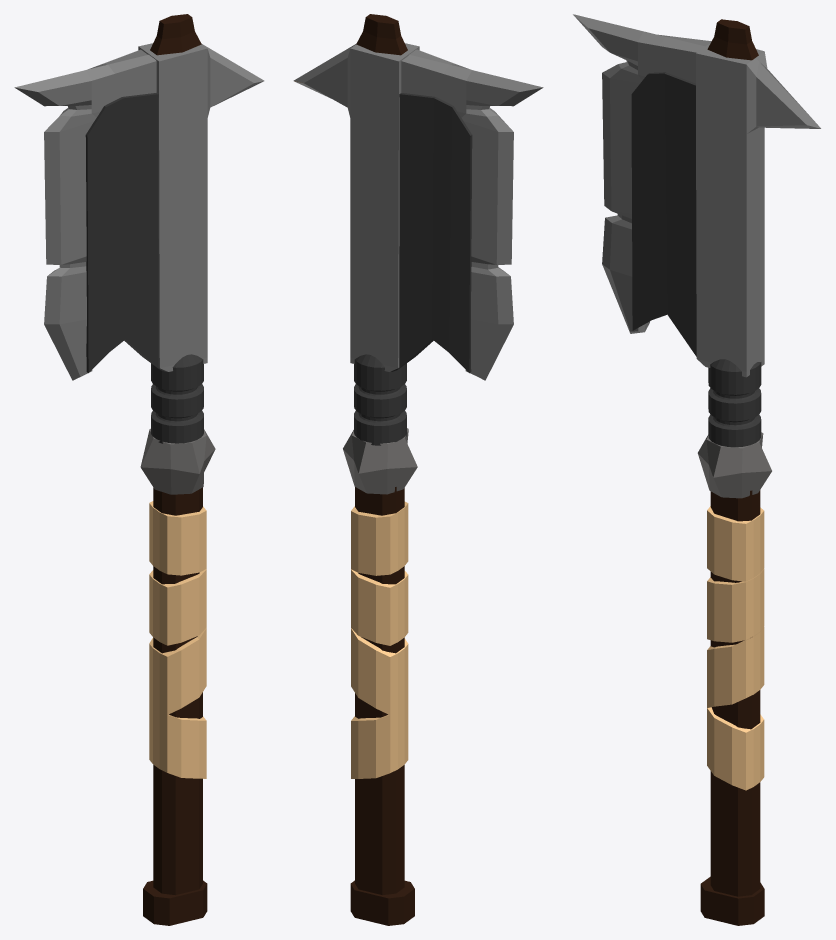
File: Butchers_Axe.fbx
The picture shows the model from 3 angles, left to right: view 1: azimuth 30°, elevation 25°; view 2: azimuth 150°, elevation 25°; view 3: azimuth 330°, elevation 25°; orthographic projection.
Visible parts, largest first — view 1: Butchers_Axe; view 2: Butchers_Axe; view 3: Butchers_Axe.
Part boxes in pixels (x1=…): Butchers_Axe: x1=14, y1=14, x2=264, y2=925; Butchers_Axe: x1=293, y1=14, x2=543, y2=925; Butchers_Axe: x1=573, y1=14, x2=820, y2=925.
Size of the model in its own units: 621 by 2118 by 186.
